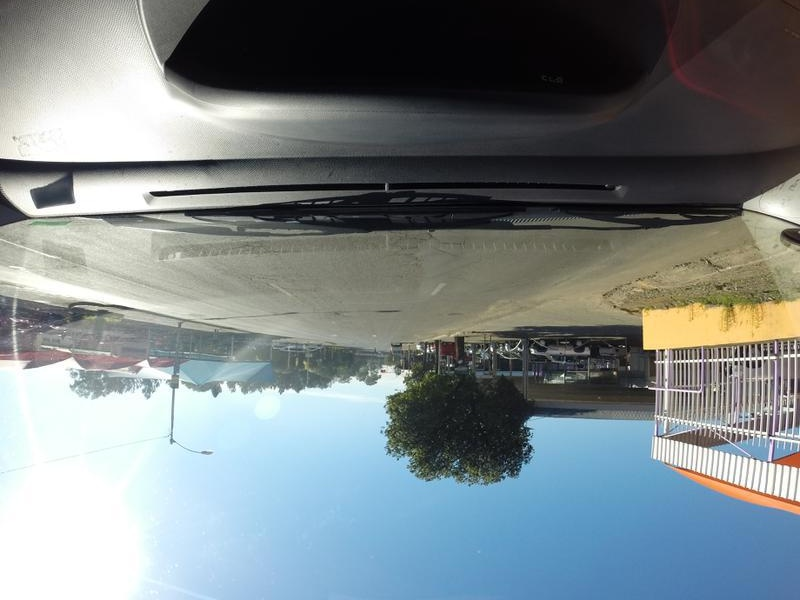pothole: (369, 308, 398, 316), (325, 308, 340, 316)
